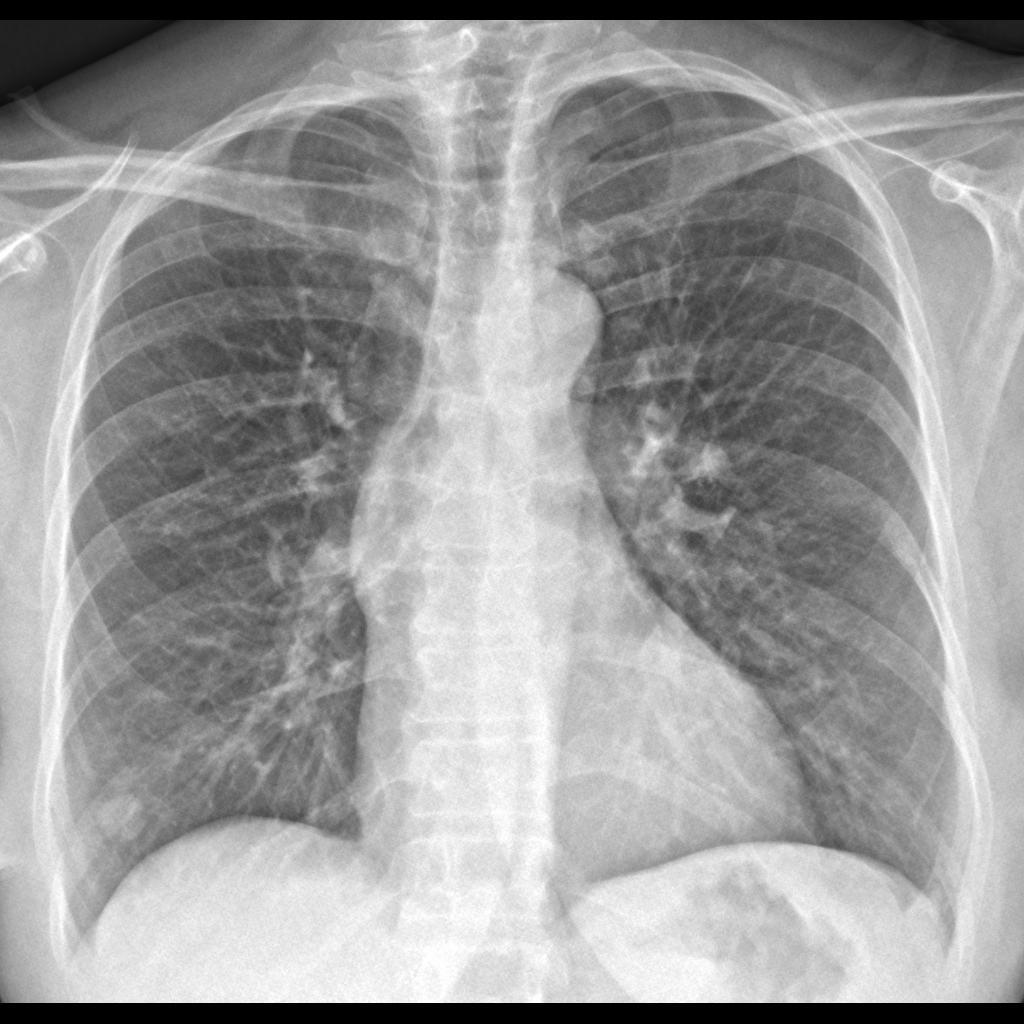Nodule: (89, 784, 161, 866)
